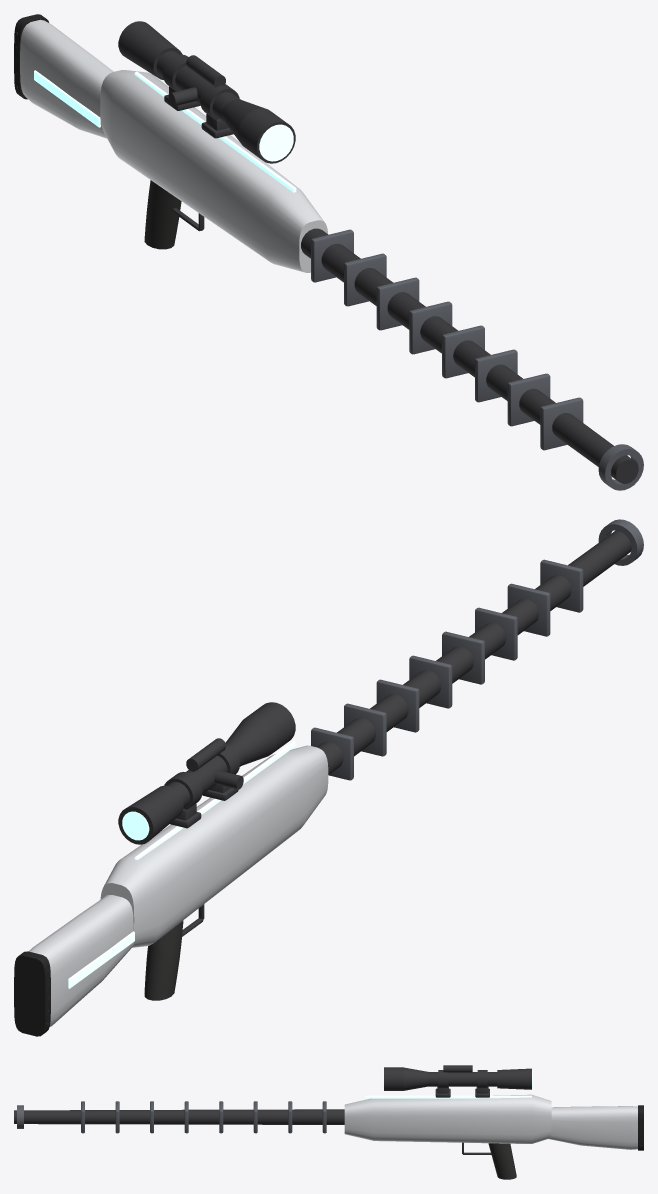
File: closedlaser.glb
3 renders of one model, top to bottom at view 1: azimuth 30°, elevation 25°; view 2: azimuth 150°, elevation 25°; view 3: azimuth 270°, elevation 25°, orthographic. The views are drawn at different scales.
Visible parts, largest first — view 1: Body; view 2: Body; view 3: Body.
Boxes of the visible parts, box(x1,y1,x2,y2) form: Body: box(14, 14, 643, 490); Body: box(14, 519, 643, 1036); Body: box(14, 1065, 643, 1179).
Bounding box in the file's own units: 0.072 × 0.2484 × 1.28.
